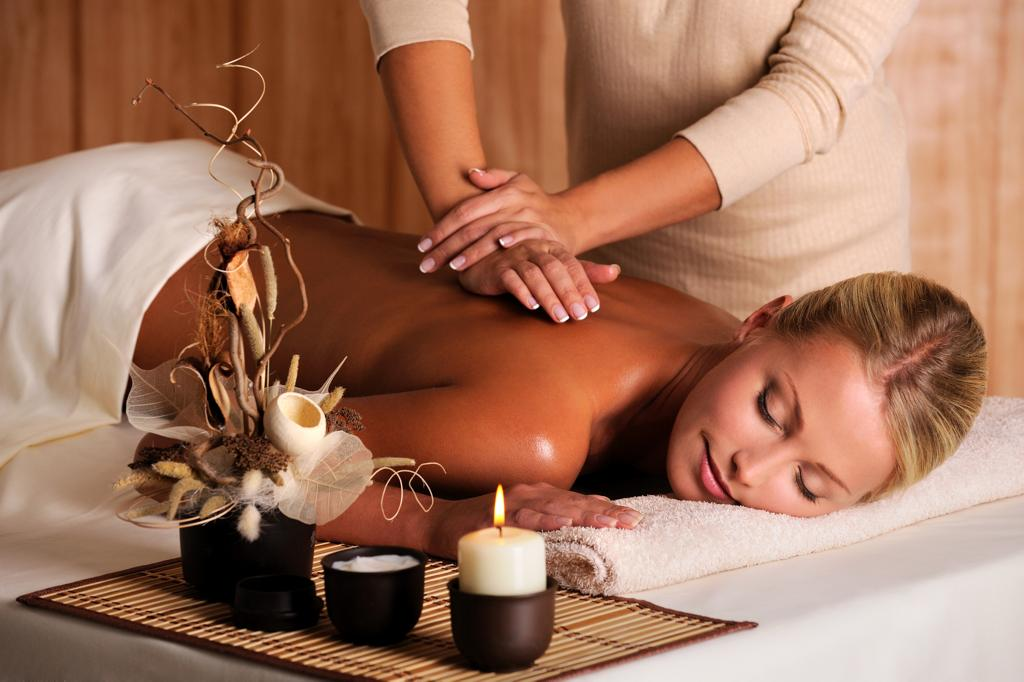face: (668, 368, 882, 520)
